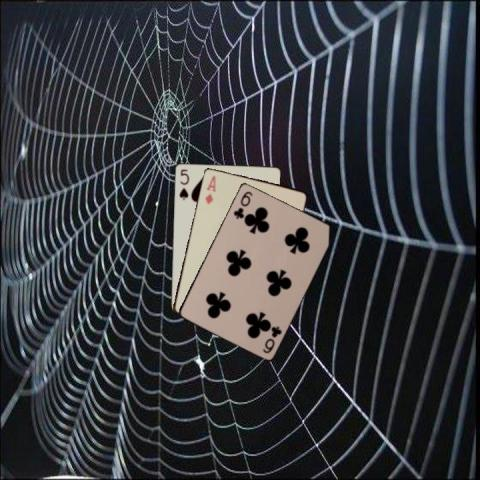5s: (176, 166, 190, 201)
6c: (231, 188, 254, 220), (260, 322, 283, 354)
Ad: (202, 172, 217, 205)
